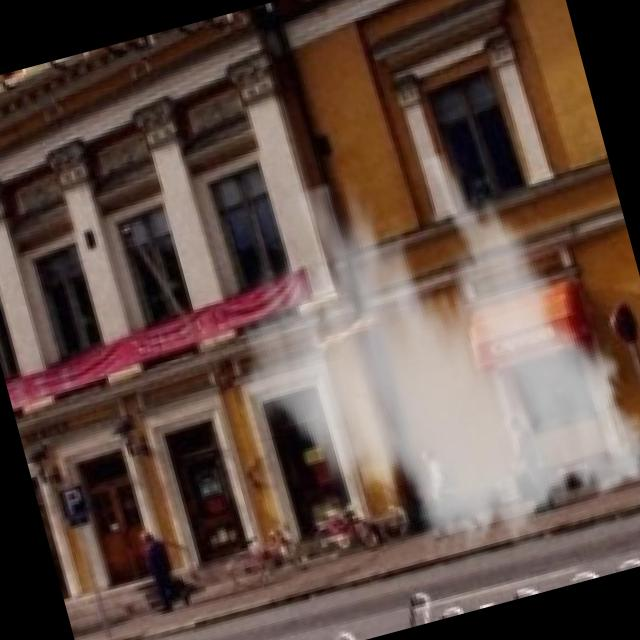Smoke: (190, 114, 640, 611)
